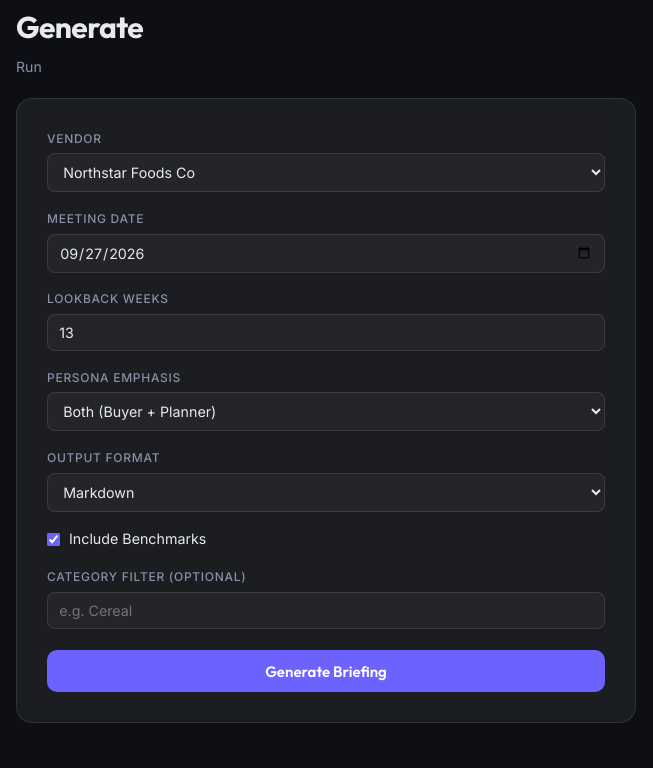
Test: BriefingCreateForm › shows friendly message when API server is unreachable
(page scrolled)
Click the button "Generate Briefing": click(326, 671) [47, 650, 605, 692]
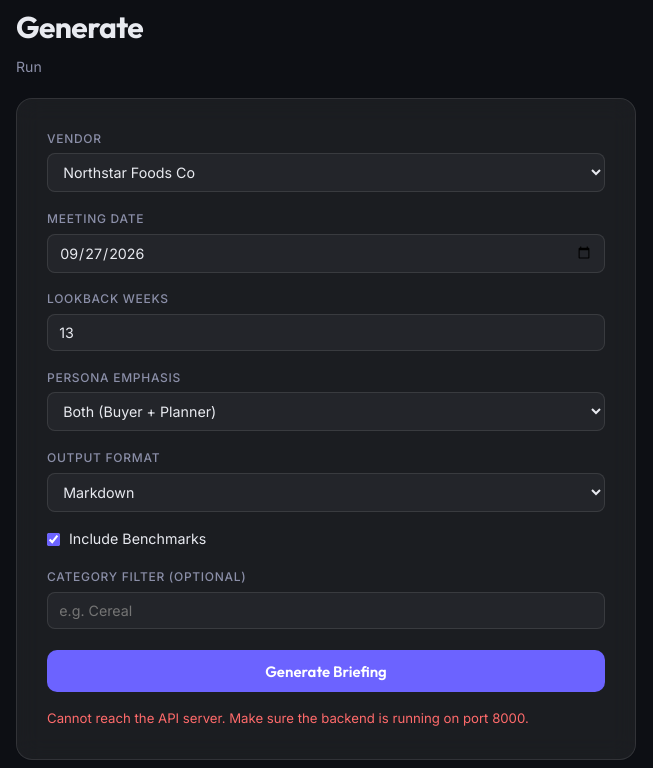
Expected: the text "Cannot reach the API server. Make sure the backend is running on port 8000." is shown, [47, 708, 605, 729]
